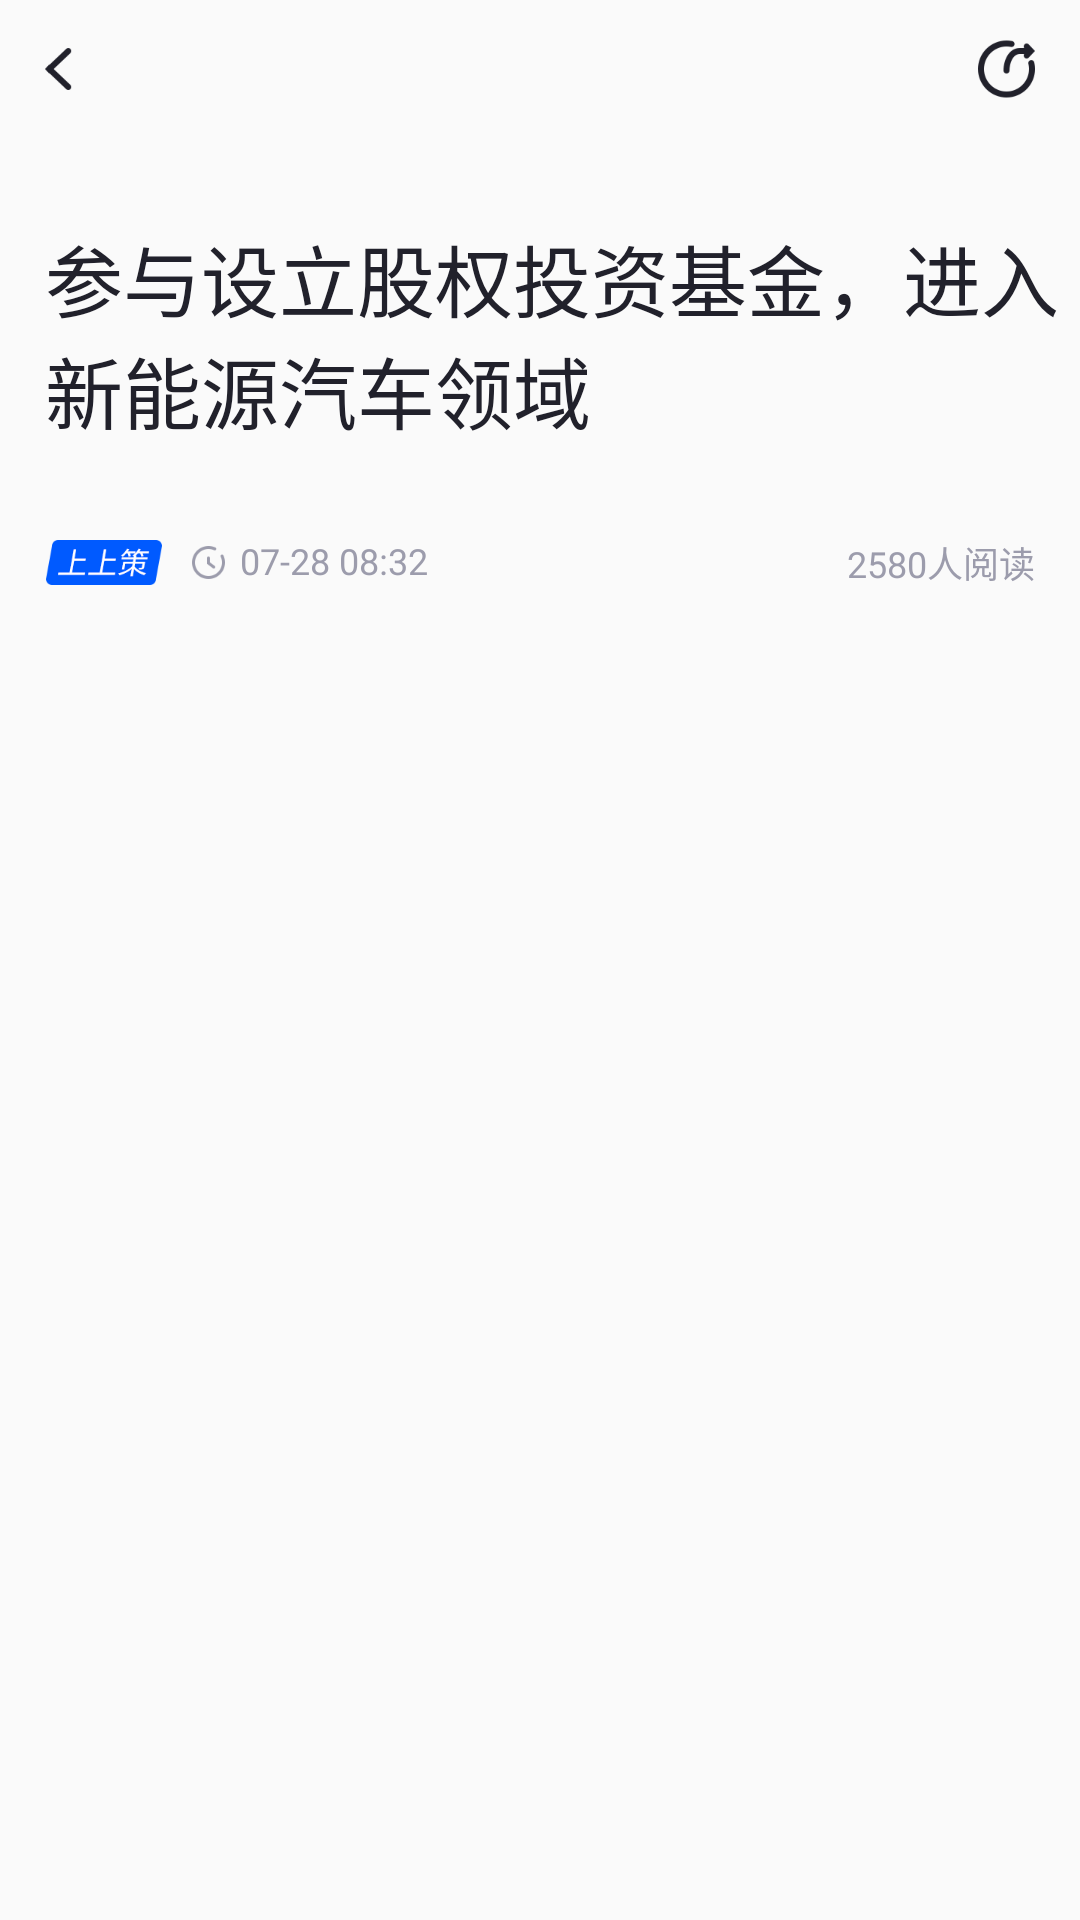

Locate icon controls on the screen. Image size 1080*1920, boxes as (x1, y1, x2, y2).
jiatou fanhui: (45, 48, 72, 90)
share: (978, 40, 1035, 98)
time: (192, 546, 225, 579)
